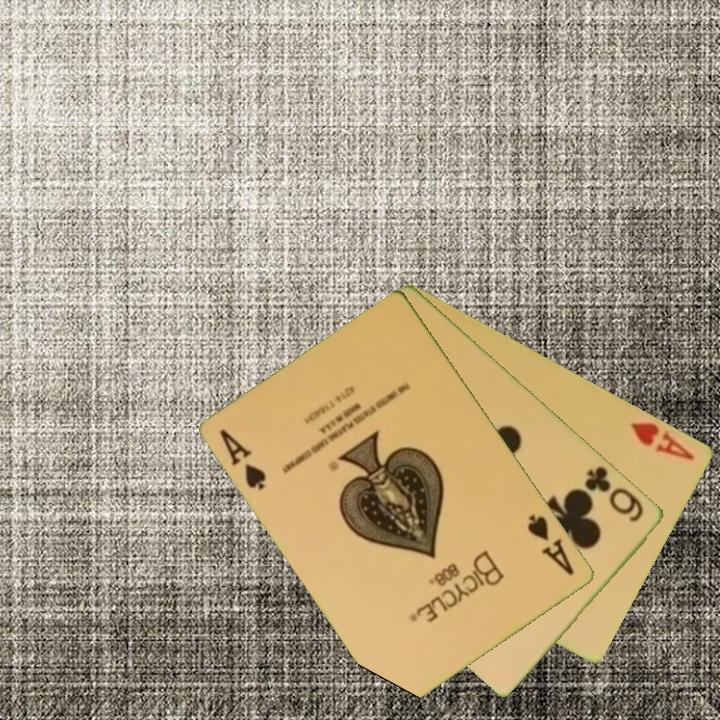6c: (581, 462, 647, 525)
Ah: (627, 418, 699, 463)
As: (524, 511, 578, 579), (216, 425, 270, 493)
